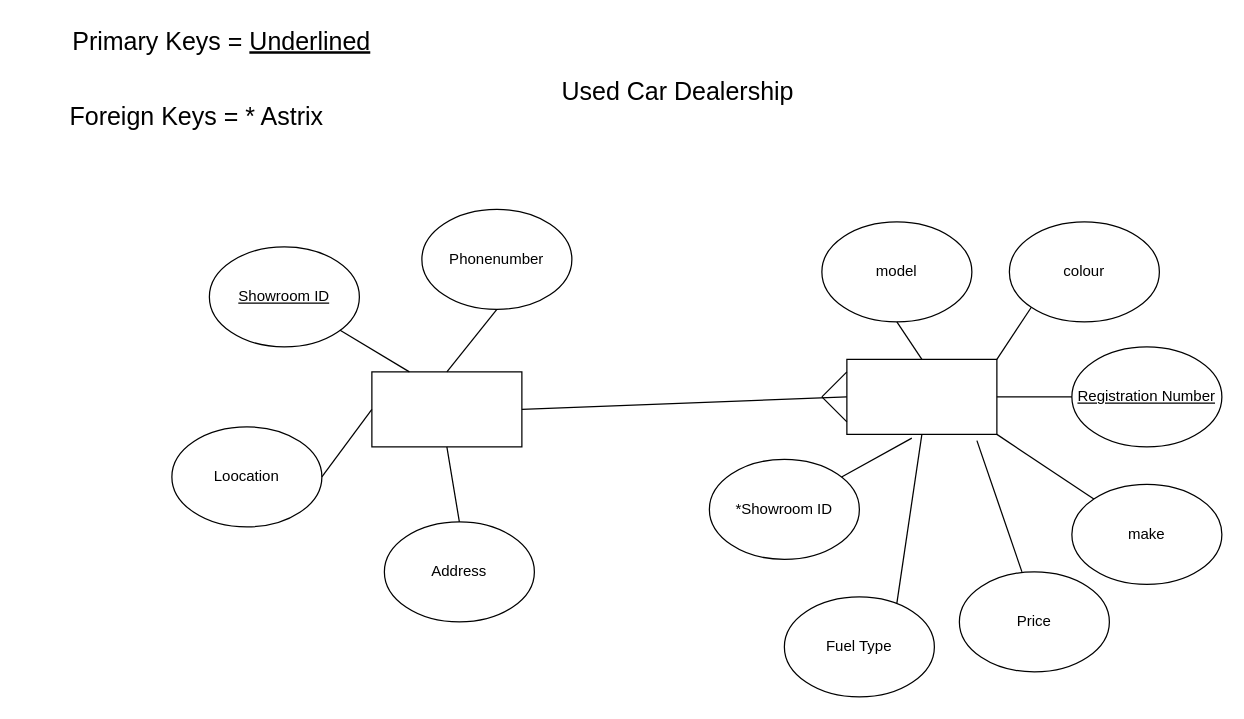
Image size: 1244x719. Some labels were removed from this diagram. The shapes that lost their labels are listed below. From the top down, each one's centre as x and y in pixels, then its label:
At [446,409]: "Showroom".
At [921,396]: "Car".
